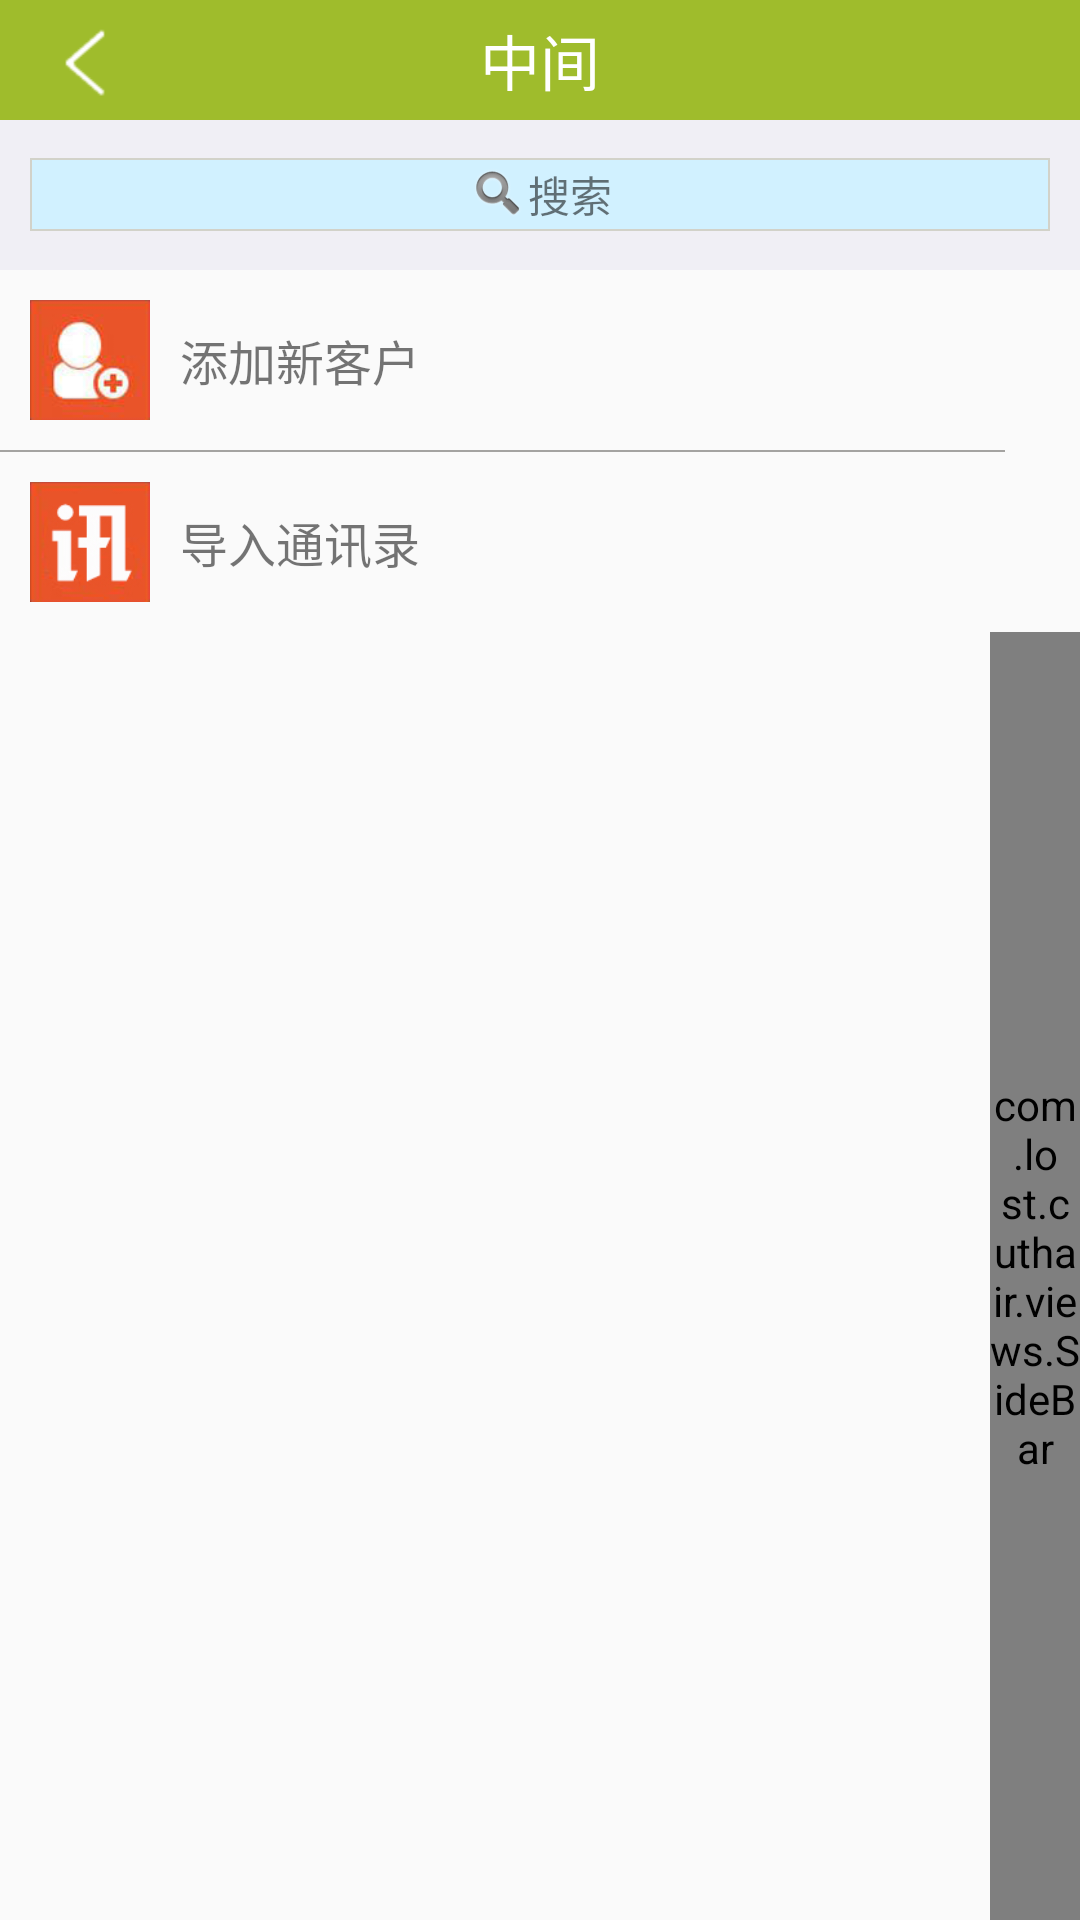

Locate icon controls on the screen. Image size 1080px x 1920px, boxes as box(x1, y1, x2, y2).
add person: box(30, 300, 150, 420)
back to: box(65, 30, 105, 96)
search category: box(476, 171, 519, 215)
